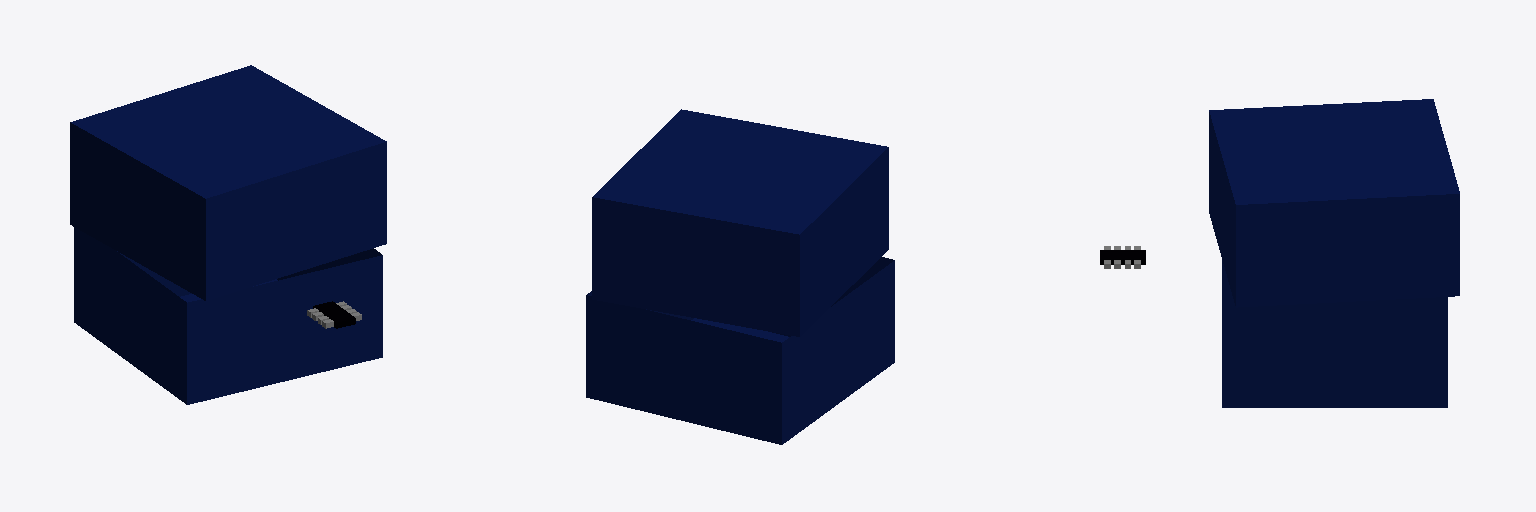
Rendered from itens.obj.
3 renders of one model, left to right at view 1: azimuth 30°, elevation 25°; view 2: azimuth 150°, elevation 25°; view 3: azimuth 270°, elevation 25°, orthographic.
Visible parts, largest first — view 1: Cube, Cube.001; view 2: Cube; view 3: Cube, Cube.001.
Boxes of the visible parts, <box> form: Cube: <box>70,65,386,404</box>; Cube.001: <box>307,301,361,328</box>; Cube: <box>586,109,894,444</box>; Cube: <box>1209,99,1459,407</box>; Cube.001: <box>1100,246,1145,268</box>.
Bounding box in the file's own units: 2.22 × 2.03 × 3.19.